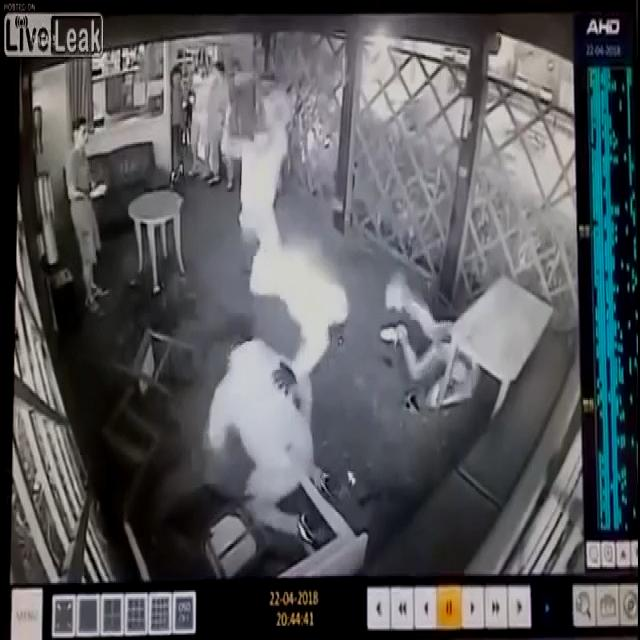fight: (200, 232, 349, 542), (383, 258, 478, 420)
